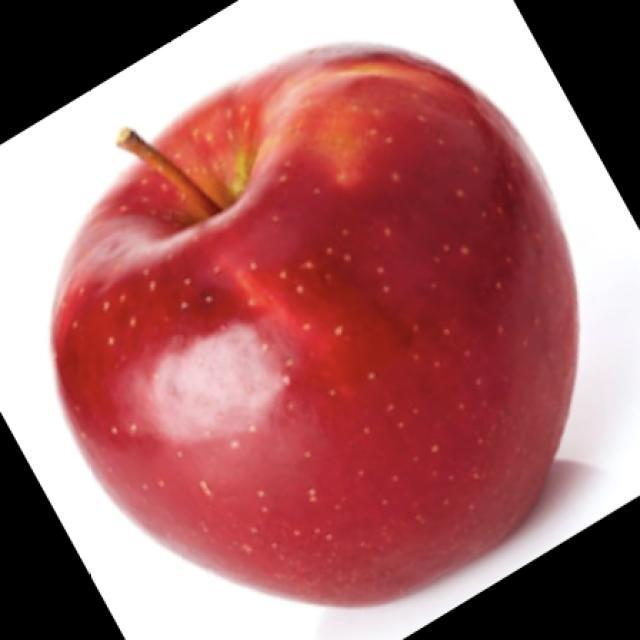Apple: (49, 40, 581, 607)
